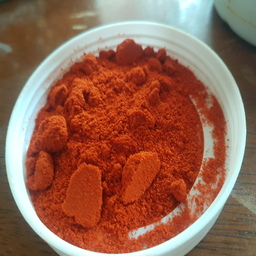Red chilli: (4, 40, 237, 250)
